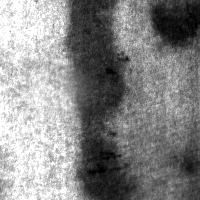patches: (88, 119, 200, 200), (64, 1, 127, 135), (19, 54, 93, 128), (73, 126, 135, 200), (148, 1, 200, 46)
